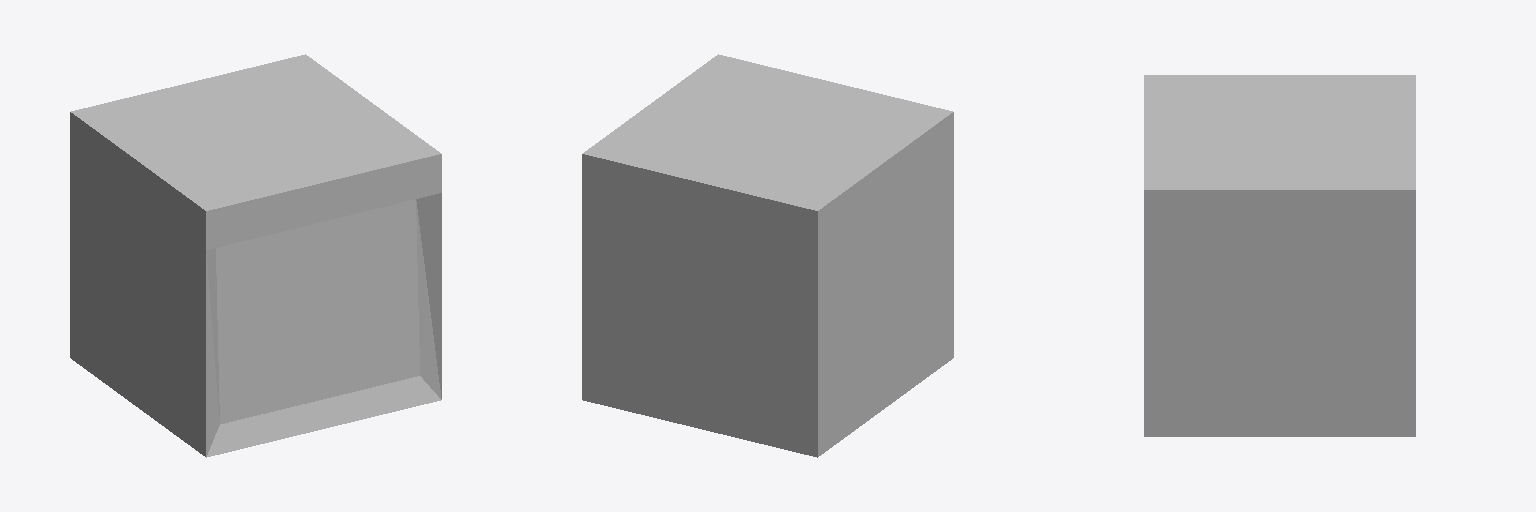
The model's file is wall_box.obj.
3 renders of one model, left to right at view 1: azimuth 30°, elevation 25°; view 2: azimuth 150°, elevation 25°; view 3: azimuth 270°, elevation 25°, orthographic.
Visible parts, largest first — view 1: box1; view 2: box1; view 3: box1.
Part boxes in pixels (x1,y1,x2,y2): box1: (70, 54, 441, 457); box1: (582, 54, 953, 457); box1: (1144, 75, 1415, 436).
Size of the model in its own units: 1.19 by 1.19 by 1.19.